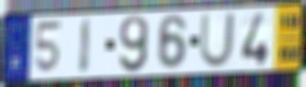4: (239, 10, 271, 68)
5: (33, 20, 65, 76)
6: (156, 14, 189, 72)
9: (118, 14, 150, 74)
I: (78, 17, 93, 76)
U: (198, 11, 237, 70)
